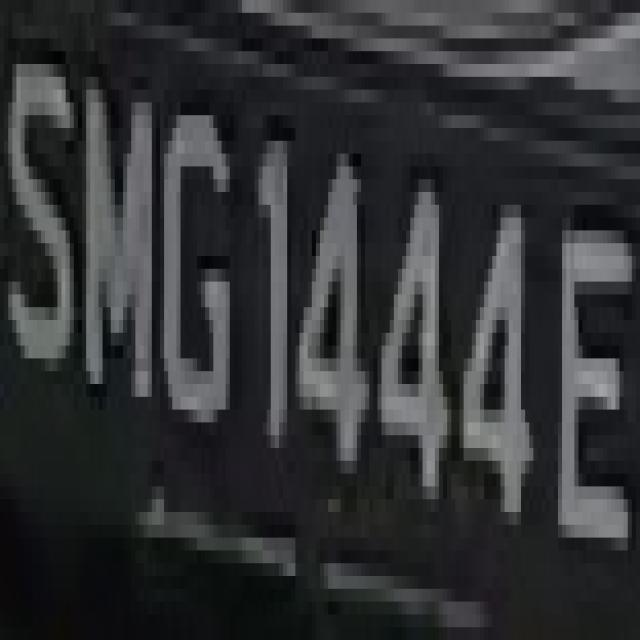1: (250, 90, 304, 524)
4: (456, 179, 542, 563), (378, 153, 460, 538), (308, 128, 382, 512)
E: (554, 179, 632, 589)
G: (156, 64, 238, 461)
M: (74, 38, 156, 436)
S: (8, 13, 78, 397)
